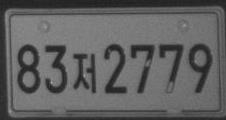2: (103, 43, 127, 93)
3: (44, 44, 68, 94)
7: (129, 44, 155, 93), (158, 43, 183, 93)
8: (15, 43, 41, 94)
9: (187, 42, 213, 93)
저: (72, 52, 96, 93)
